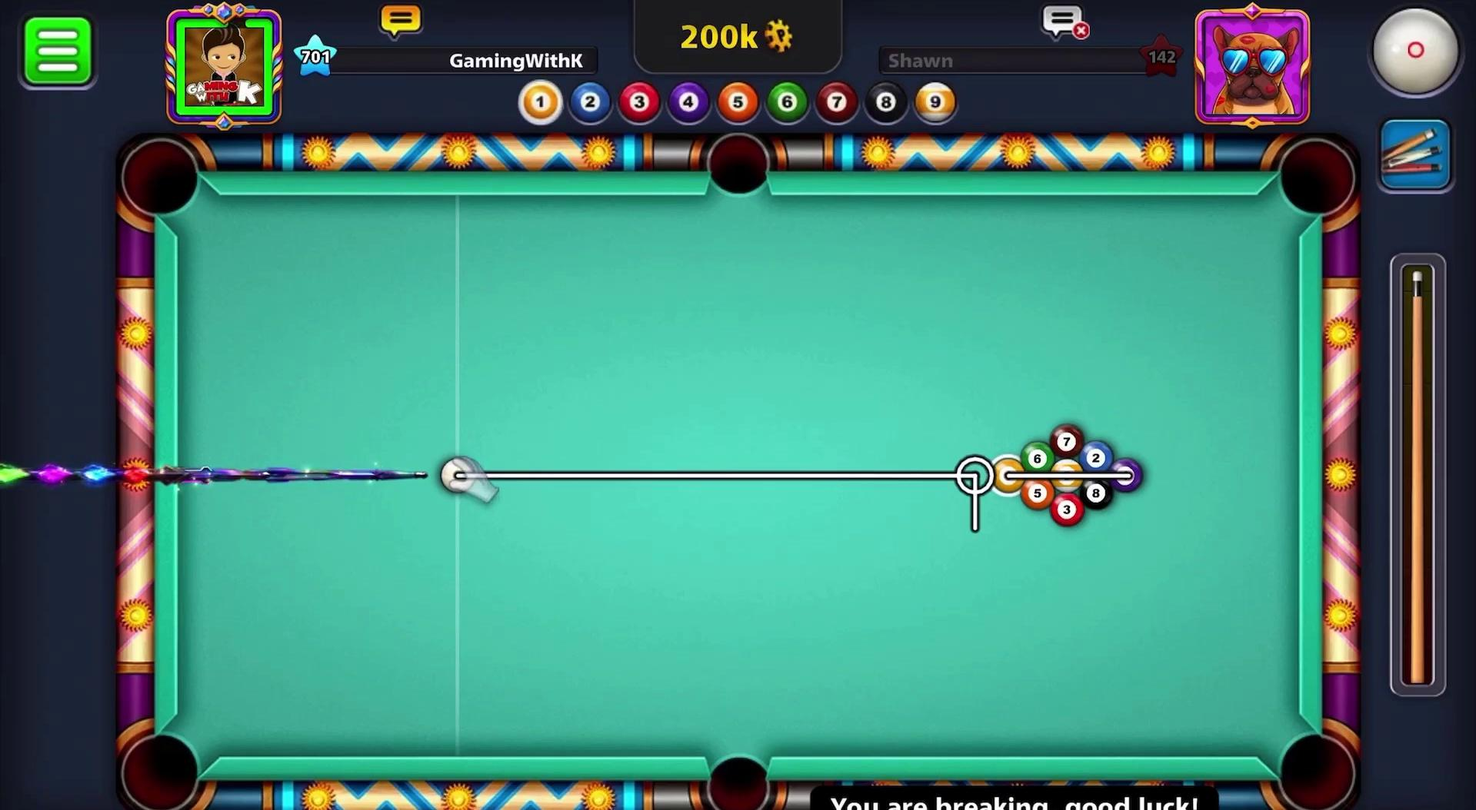Ball: (1047, 419, 1086, 458), (1018, 440, 1057, 476), (1016, 476, 1055, 512), (1047, 490, 1084, 527), (1108, 456, 1144, 494), (991, 455, 1025, 494), (1048, 456, 1083, 493), (1078, 438, 1111, 473), (1078, 476, 1111, 509)
Force: (1388, 253, 1452, 707)
Guideline: (462, 457, 1137, 539)
Hole: (108, 128, 213, 231), (1270, 130, 1364, 231), (1265, 718, 1364, 808), (111, 724, 208, 809), (686, 738, 783, 809), (701, 124, 776, 204)
Play_Area: (177, 192, 1299, 763)
Spin: (1345, 1, 1475, 111)
White: (428, 452, 481, 497)
